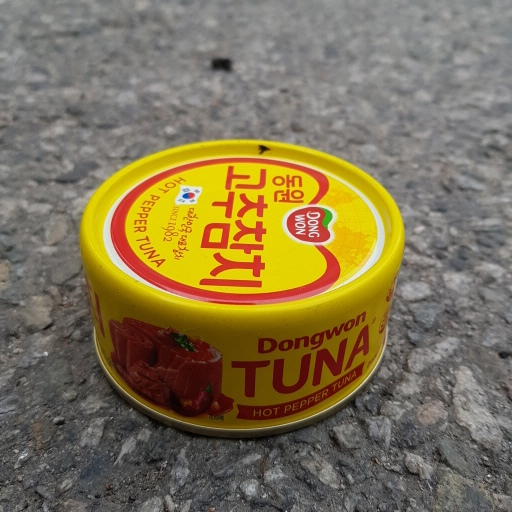Metal_1: (74, 139, 407, 434)
